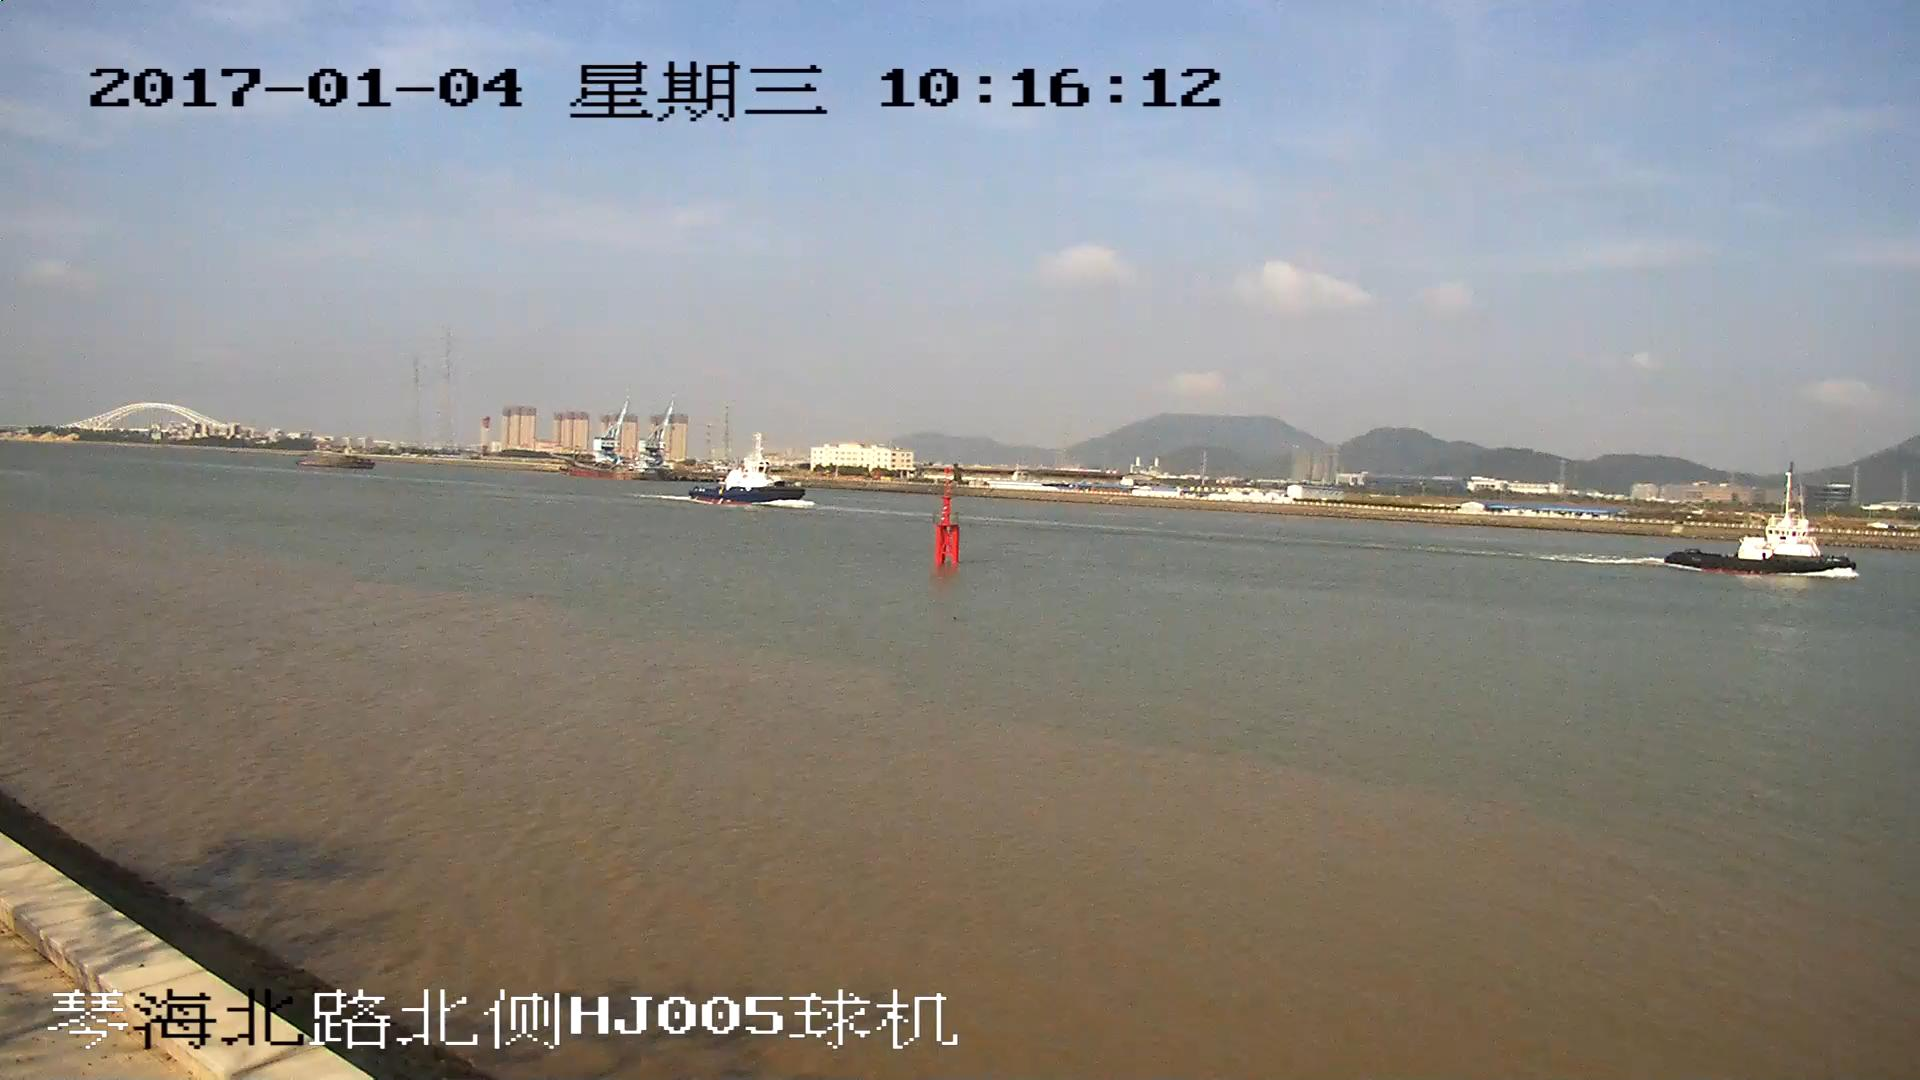passenger ship: (1660, 475, 1855, 578), (679, 438, 810, 506)
